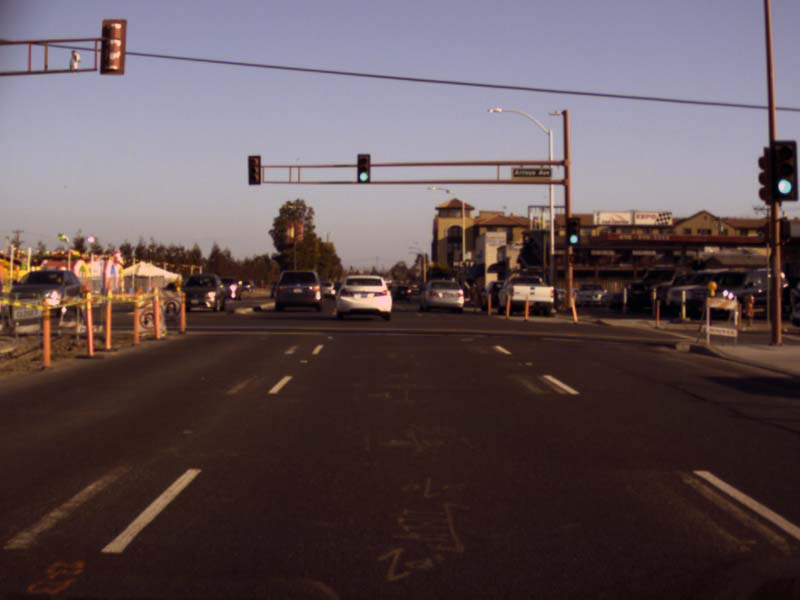Green: (770, 141, 797, 200), (566, 218, 580, 244), (357, 154, 369, 182)
